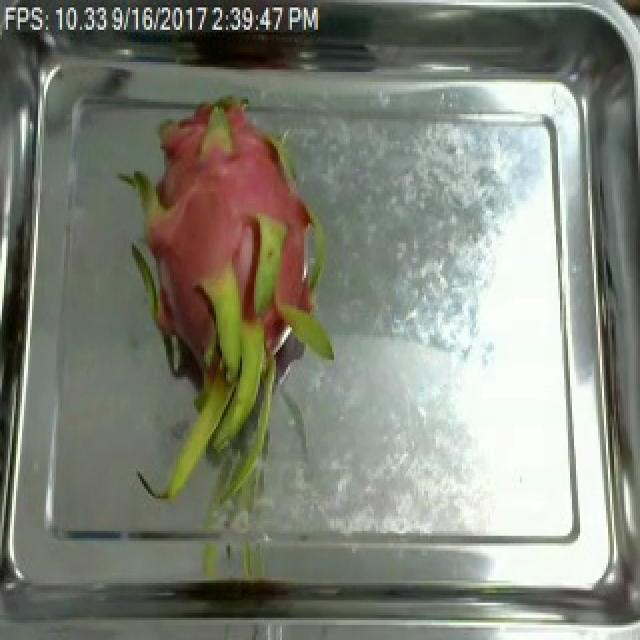fruit: (110, 104, 354, 521)
